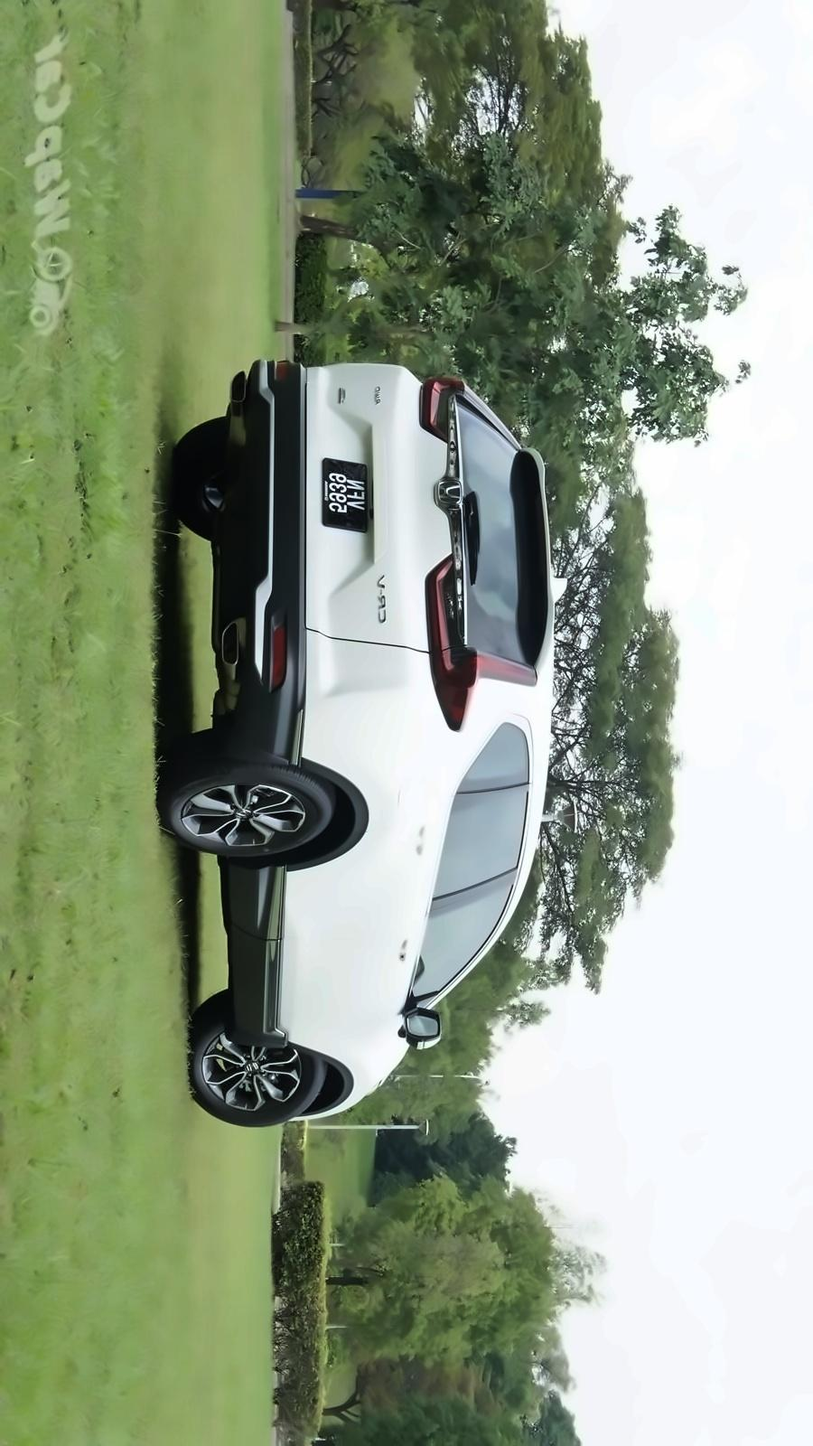Car boot: (293, 356, 562, 656)
Driver-s door - -F-R-: (270, 882, 528, 1022)
Fender - -F-R-: (268, 1020, 414, 1087)
Fender - -R-R-: (312, 723, 455, 814)
Front bumper: (274, 1091, 354, 1133)
Passenger-s door - -R-R-: (265, 785, 540, 933)
Rear bumper: (218, 351, 419, 784)
Rear light - -L-: (411, 366, 532, 458)
Rear light - -R-: (414, 545, 543, 737)
Side bumper - -R-: (215, 848, 294, 1049)
Side mirror - -R-: (392, 999, 454, 1061)
